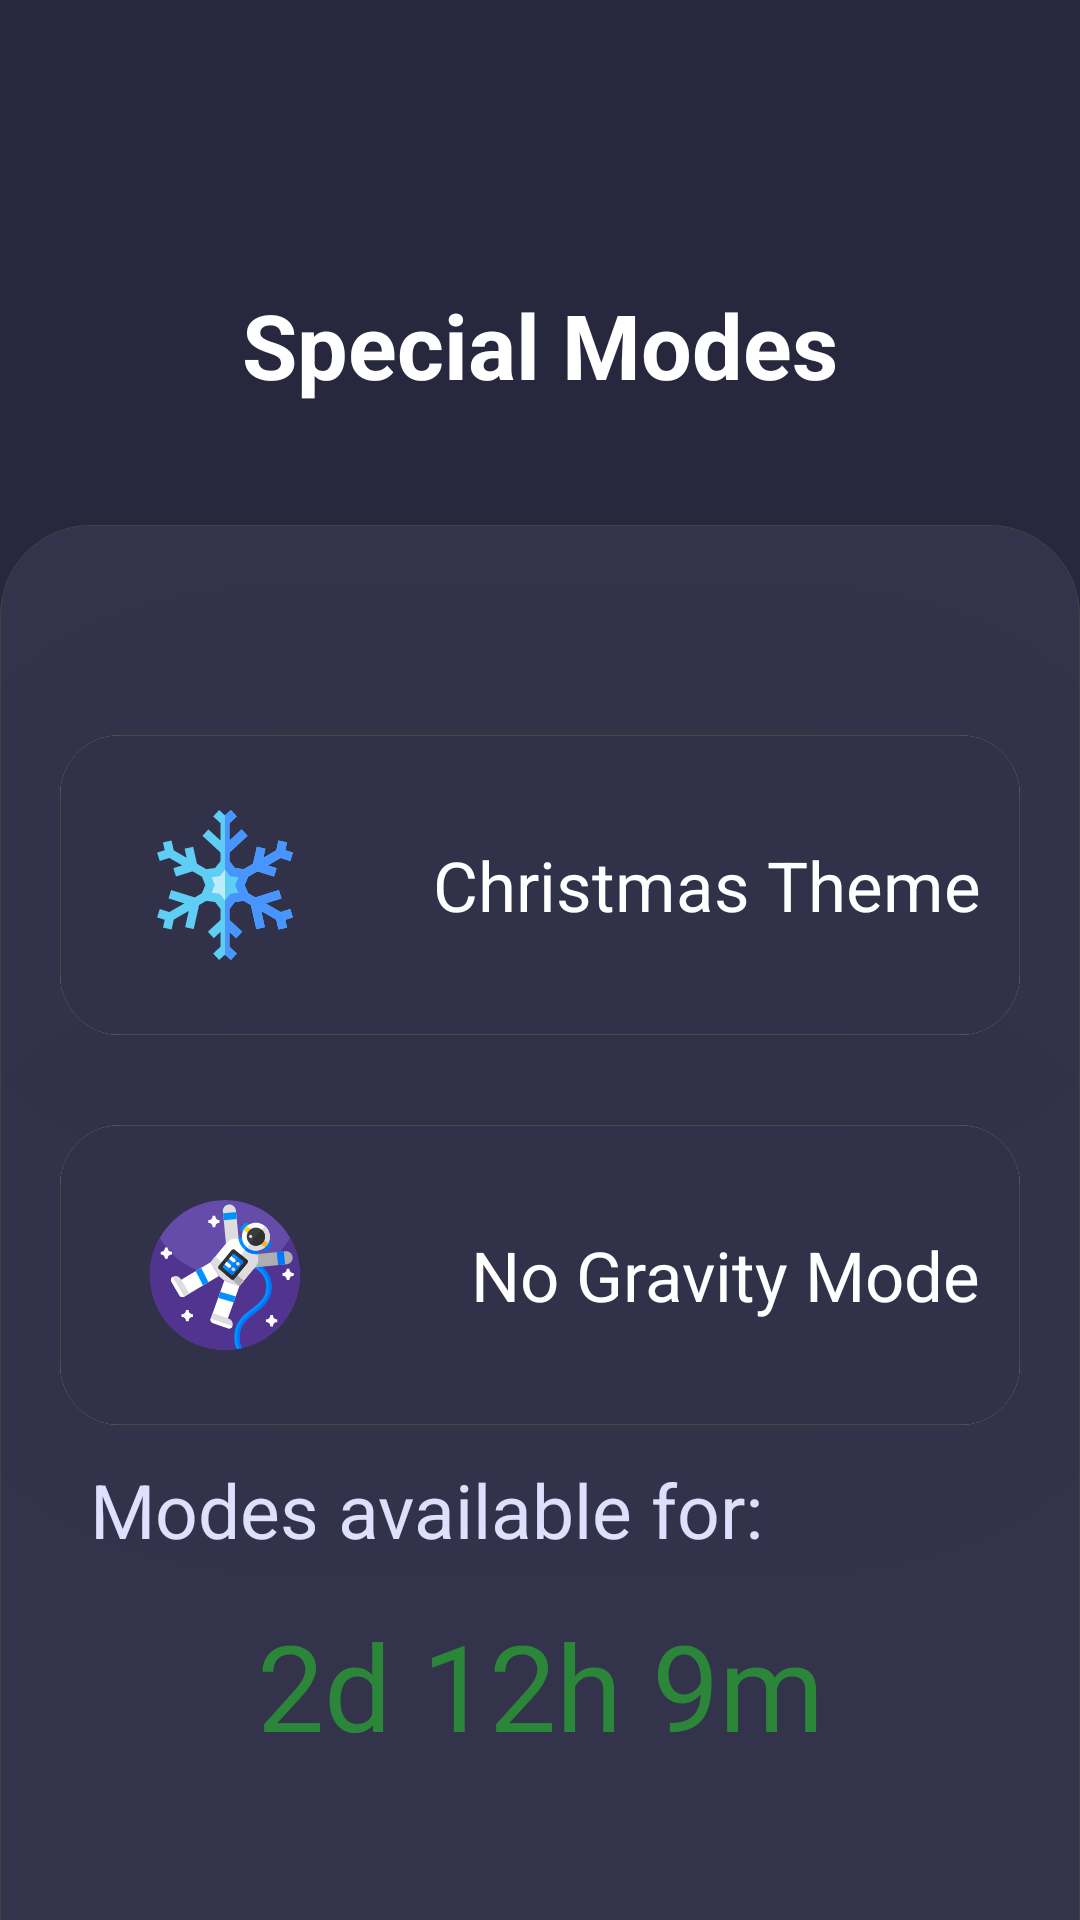

Screen size 1080px x 1920px. Icon name, then its center in pixels as point (x, y):
christmas mode: point (225, 885)
gravity: point (225, 1275)
